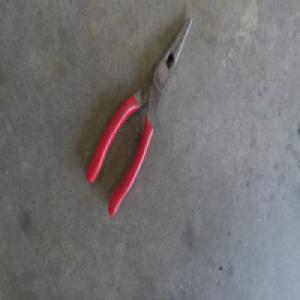Pliers: (87, 19, 192, 218)
